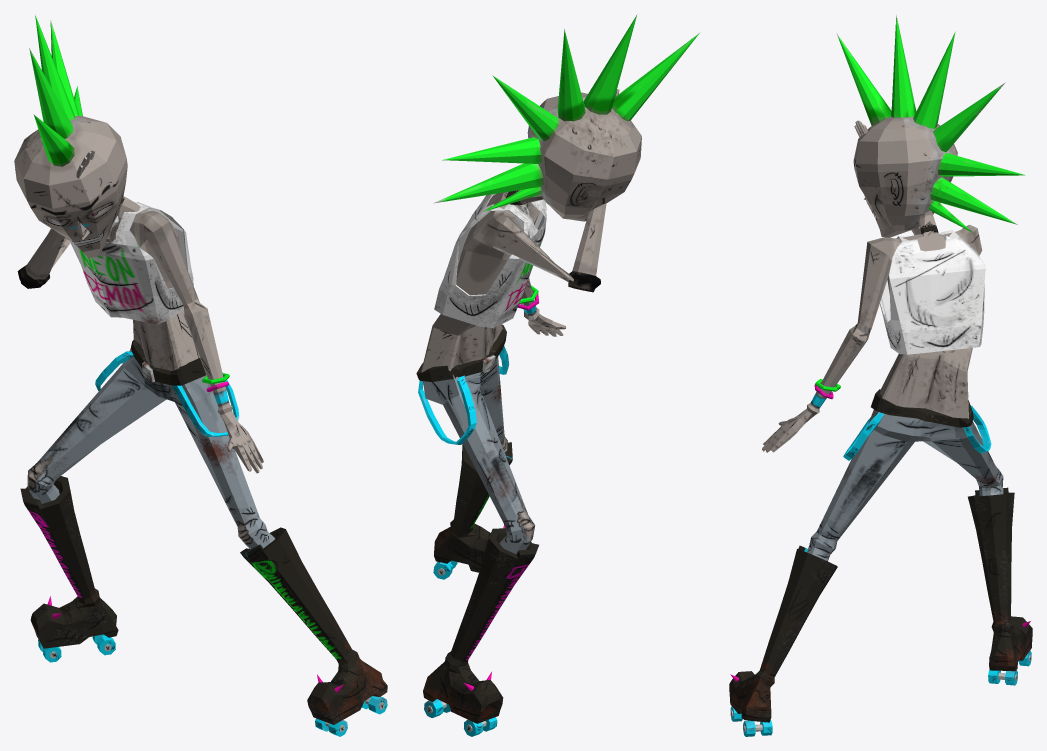
Rendered from punkAnimation_000019.obj.
3 views of the same model, side by side, from view 1: azimuth 30°, elevation 25°; view 2: azimuth 150°, elevation 25°; view 3: azimuth 270°, elevation 25° (orthographic). The views are drawn at different scales.
Visible parts, largest first — view 1: Cube.004_Cube.003; view 2: Cube.004_Cube.003; view 3: Cube.004_Cube.003.
Part boxes in pixels (x1,y1,x2,y2): Cube.004_Cube.003: (14,15,387,736); Cube.004_Cube.003: (416,14,699,736); Cube.004_Cube.003: (729,15,1032,736).
Bounding box in the file's own units: 3.15 × 6.71 × 3.01.
